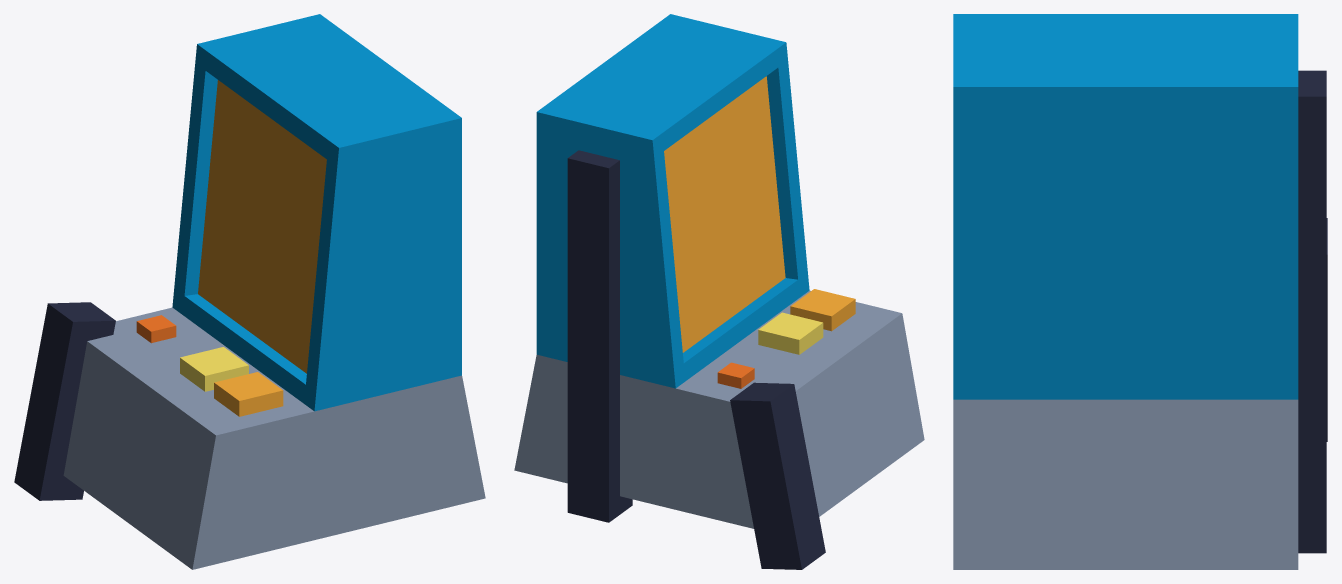
File: upgrade_machine.fbx
The picture shows the model from 3 angles, left to right: view 1: azimuth 30°, elevation 25°; view 2: azimuth 150°, elevation 25°; view 3: azimuth 270°, elevation 25°; orthographic projection. The views are drawn at different scales.
Visible parts, largest first — view 1: Cube.021; view 2: Cube.021; view 3: Cube.021.
Boxes of the visible parts, left/top/right/bottom form: Cube.021: left=14, top=14, right=485, bottom=569; Cube.021: left=514, top=14, right=924, bottom=569; Cube.021: left=953, top=14, right=1327, bottom=569.
Bounding box in the file's own units: 258 × 322 × 217.
